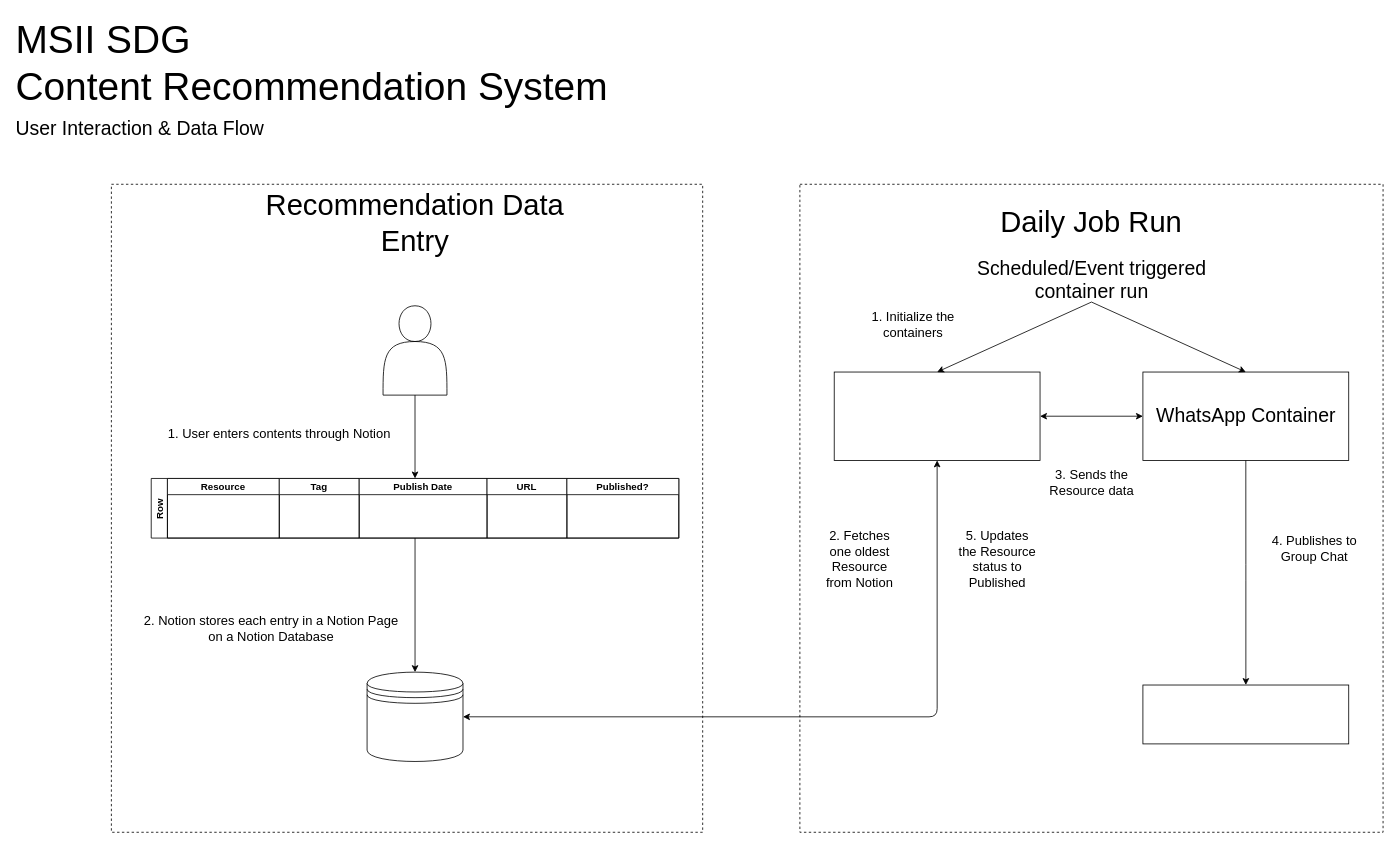
Image size: 1397x846. Some labels were removed from this diagram. Each missing label, with the centre of its shape:
"Notion" belongs at (x=414, y=716).
"Notion DB Container" belongs at (x=936, y=415).
"WhatsApp" belongs at (x=1245, y=714).
